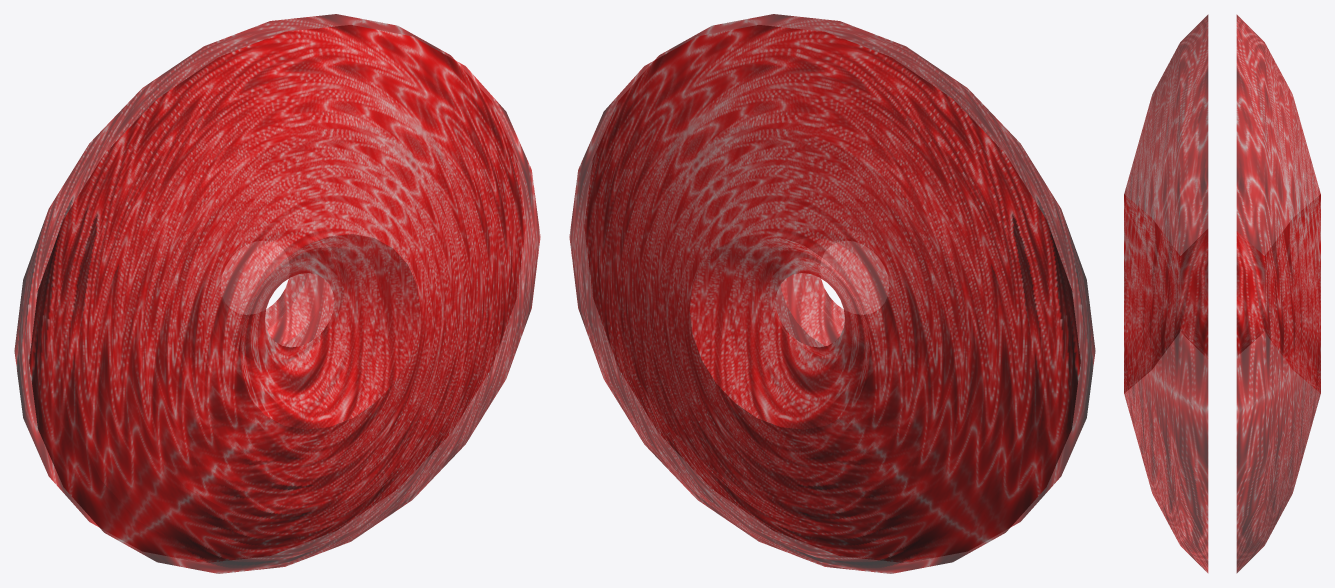
The model's file is control_point.obj.
The picture shows the model from 3 angles, left to right: view 1: azimuth 30°, elevation 25°; view 2: azimuth 150°, elevation 25°; view 3: azimuth 270°, elevation 25°; orthographic projection. The views are drawn at different scales.
Visible parts, largest first — view 1: Mesh2 Group2 Model, Mesh1 Group1 Model; view 2: Mesh1 Group1 Model, Mesh2 Group2 Model; view 3: Mesh1 Group1 Model, Mesh2 Group2 Model.
Boxes of the visible parts, x1=… form: Mesh2 Group2 Model: x1=29, y1=25, x2=540, y2=573; Mesh1 Group1 Model: x1=14, y1=14, x2=524, y2=562; Mesh1 Group1 Model: x1=569, y1=25, x2=1080, y2=573; Mesh2 Group2 Model: x1=585, y1=14, x2=1095, y2=562; Mesh1 Group1 Model: x1=1236, y1=14, x2=1320, y2=573; Mesh2 Group2 Model: x1=1124, y1=14, x2=1208, y2=573.
Size of the model in its own units: 20 by 20 by 7.
1 material, 1 textured.
